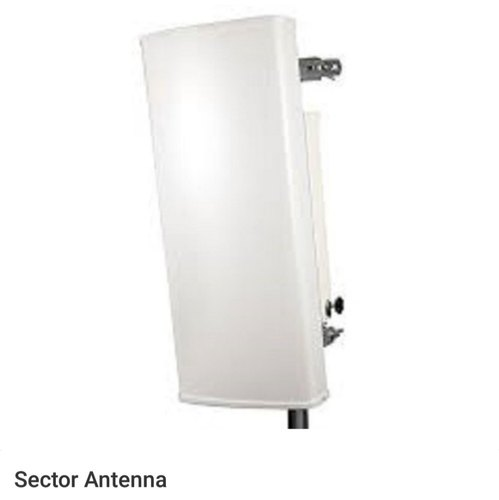sa: (120, 23, 352, 427)
